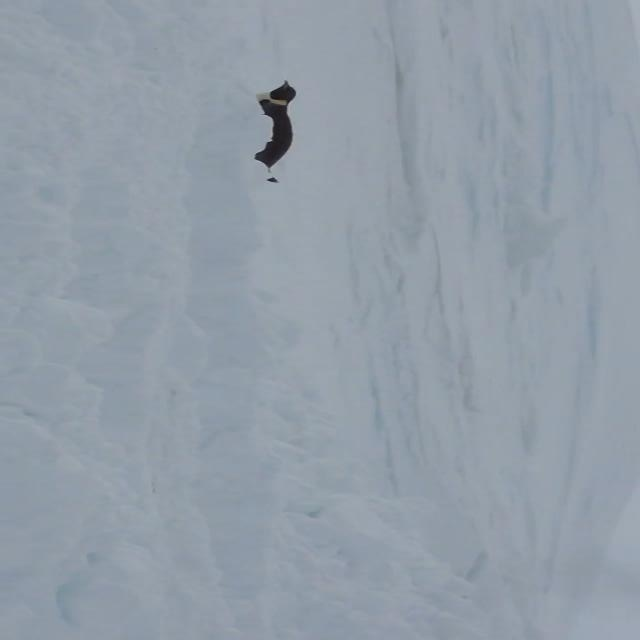penguin: (256, 79, 298, 185)
